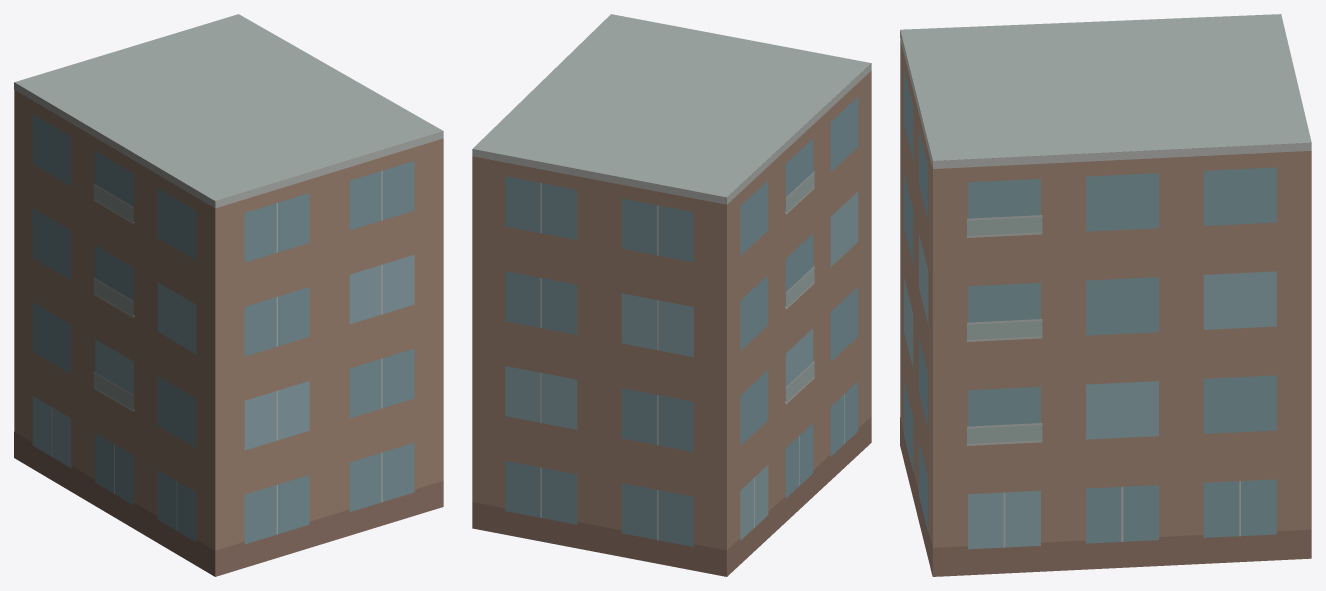
The model's file is survey-upis-32769492.glb.
3 renders of one model, left to right at view 1: azimuth 30°, elevation 25°; view 2: azimuth 150°, elevation 25°; view 3: azimuth 270°, elevation 25°, orthographic. The views are drawn at different scales.
Parts seen in each view (by area): view 1: survey-upis-32769492.tmp; view 2: survey-upis-32769492.tmp; view 3: survey-upis-32769492.tmp.
Part boxes in pixels (x1,y1,x2,y2): survey-upis-32769492.tmp: (14,14,443,576); survey-upis-32769492.tmp: (472,14,871,576); survey-upis-32769492.tmp: (900,14,1311,576).
Size of the model in its own units: 9.5 by 12.52 by 11.24.
